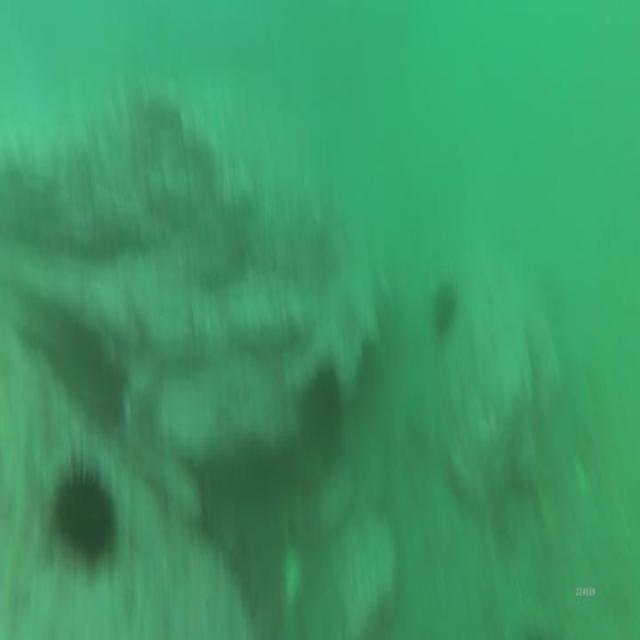echinus: (45, 458, 119, 572), (299, 362, 342, 431), (430, 275, 460, 340)
